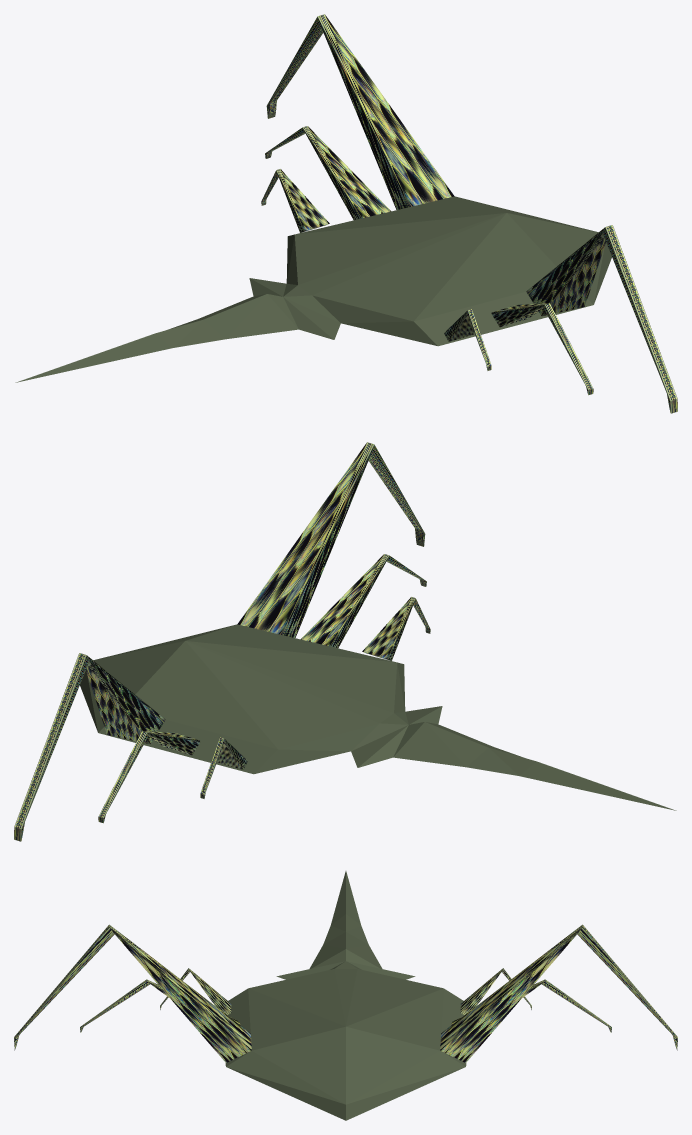
Rendered from AlienCKF.obj.
The picture shows the model from 3 angles, top to bottom: view 1: azimuth 30°, elevation 25°; view 2: azimuth 150°, elevation 25°; view 3: azimuth 270°, elevation 25°; orthographic projection. The views are drawn at different scales.
Visible parts, largest first — view 1: Plano; view 2: Plano; view 3: Plano.
Part boxes in pixels (x1=…): Plano: x1=15, y1=14, x2=677, y2=413; Plano: x1=14, y1=442, x2=676, y2=841; Plano: x1=14, y1=871, x2=677, y2=1120.
Size of the model in its own units: 4.95 by 1.29 by 5.75.
1 material, 1 textured.
